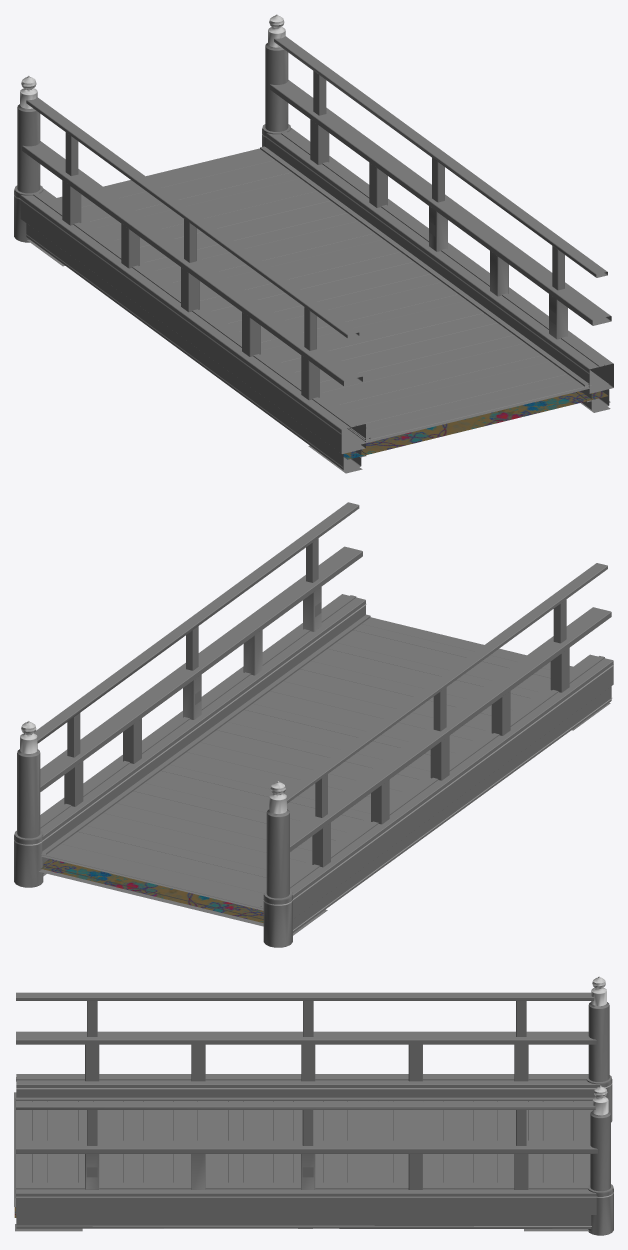
The model's file is FL4_Bridge.fbx.
3 views of the same model, one above another, from view 1: azimuth 30°, elevation 25°; view 2: azimuth 150°, elevation 25°; view 3: azimuth 270°, elevation 25° (orthographic). The views are drawn at different scales.
Visible parts, largest first — view 1: FL4_Bridge; view 2: FL4_Bridge; view 3: FL4_Bridge.
Part boxes in pixels (x1,y1,x2,y2): FL4_Bridge: (14,14,613,473); FL4_Bridge: (14,502,613,947); FL4_Bridge: (14,976,613,1235).
Size of the model in its own units: 244 by 137 by 514.
